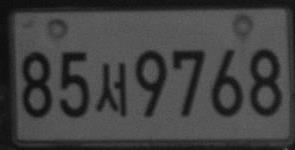5: (58, 51, 89, 117)
6: (210, 50, 244, 117)
7: (172, 49, 205, 116)
8: (249, 47, 282, 117), (20, 50, 53, 118)
9: (134, 49, 167, 118)
서: (95, 61, 128, 116)
